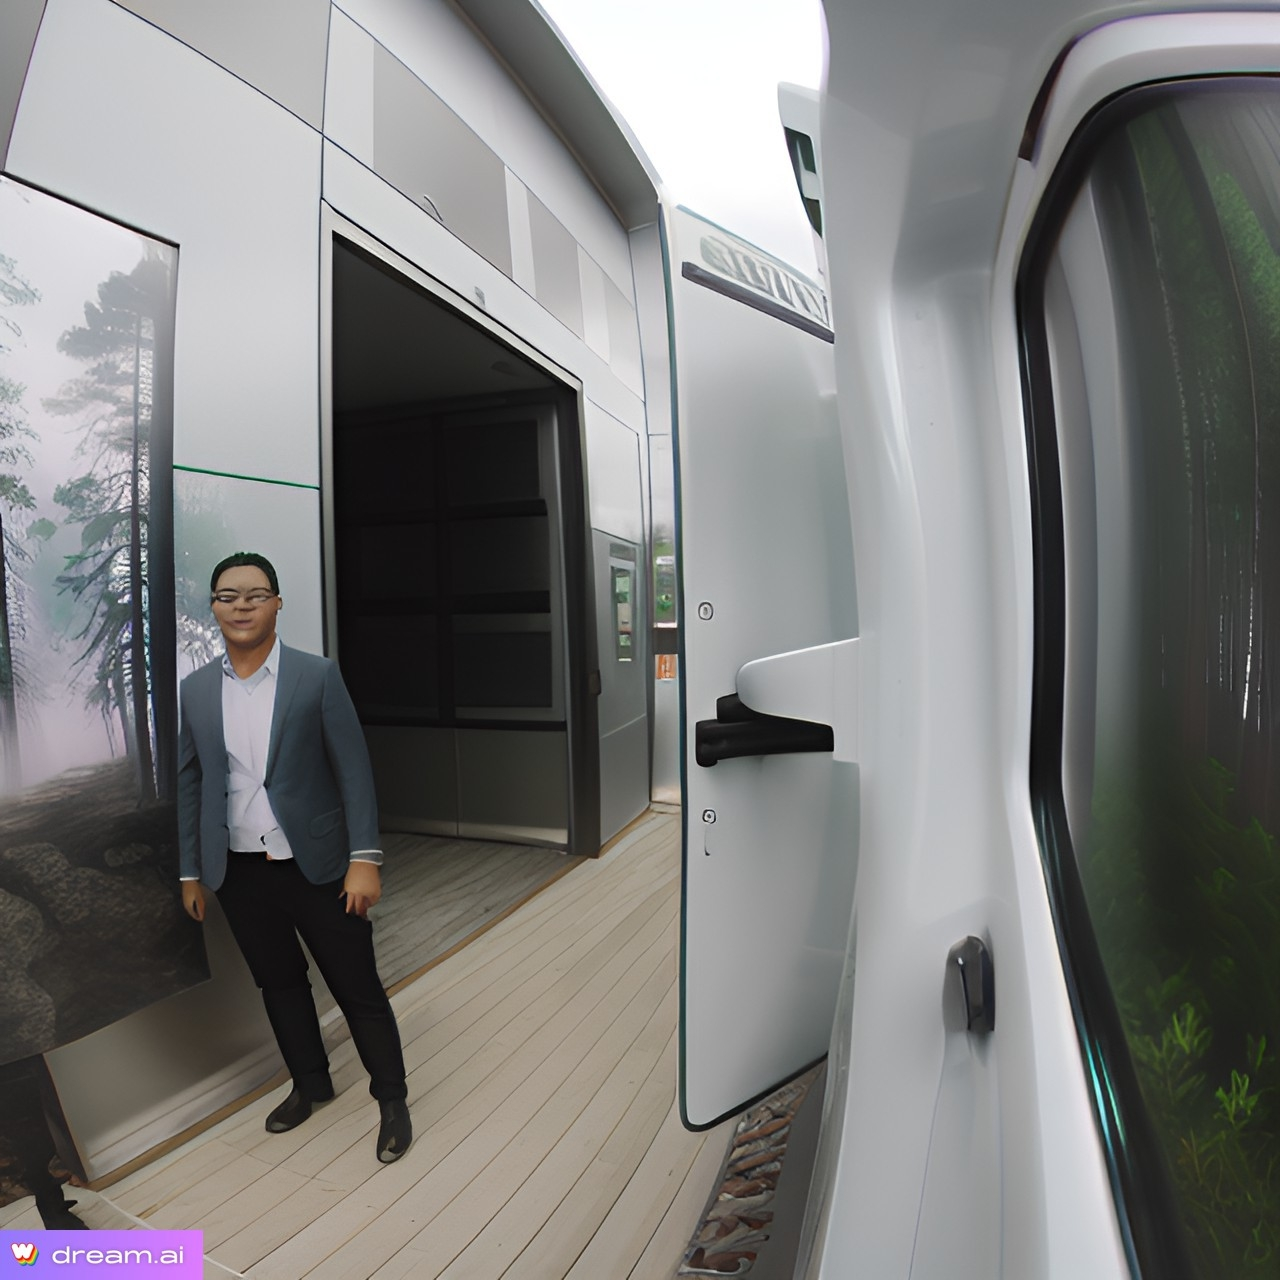door_front: (625, 178, 885, 1142)
